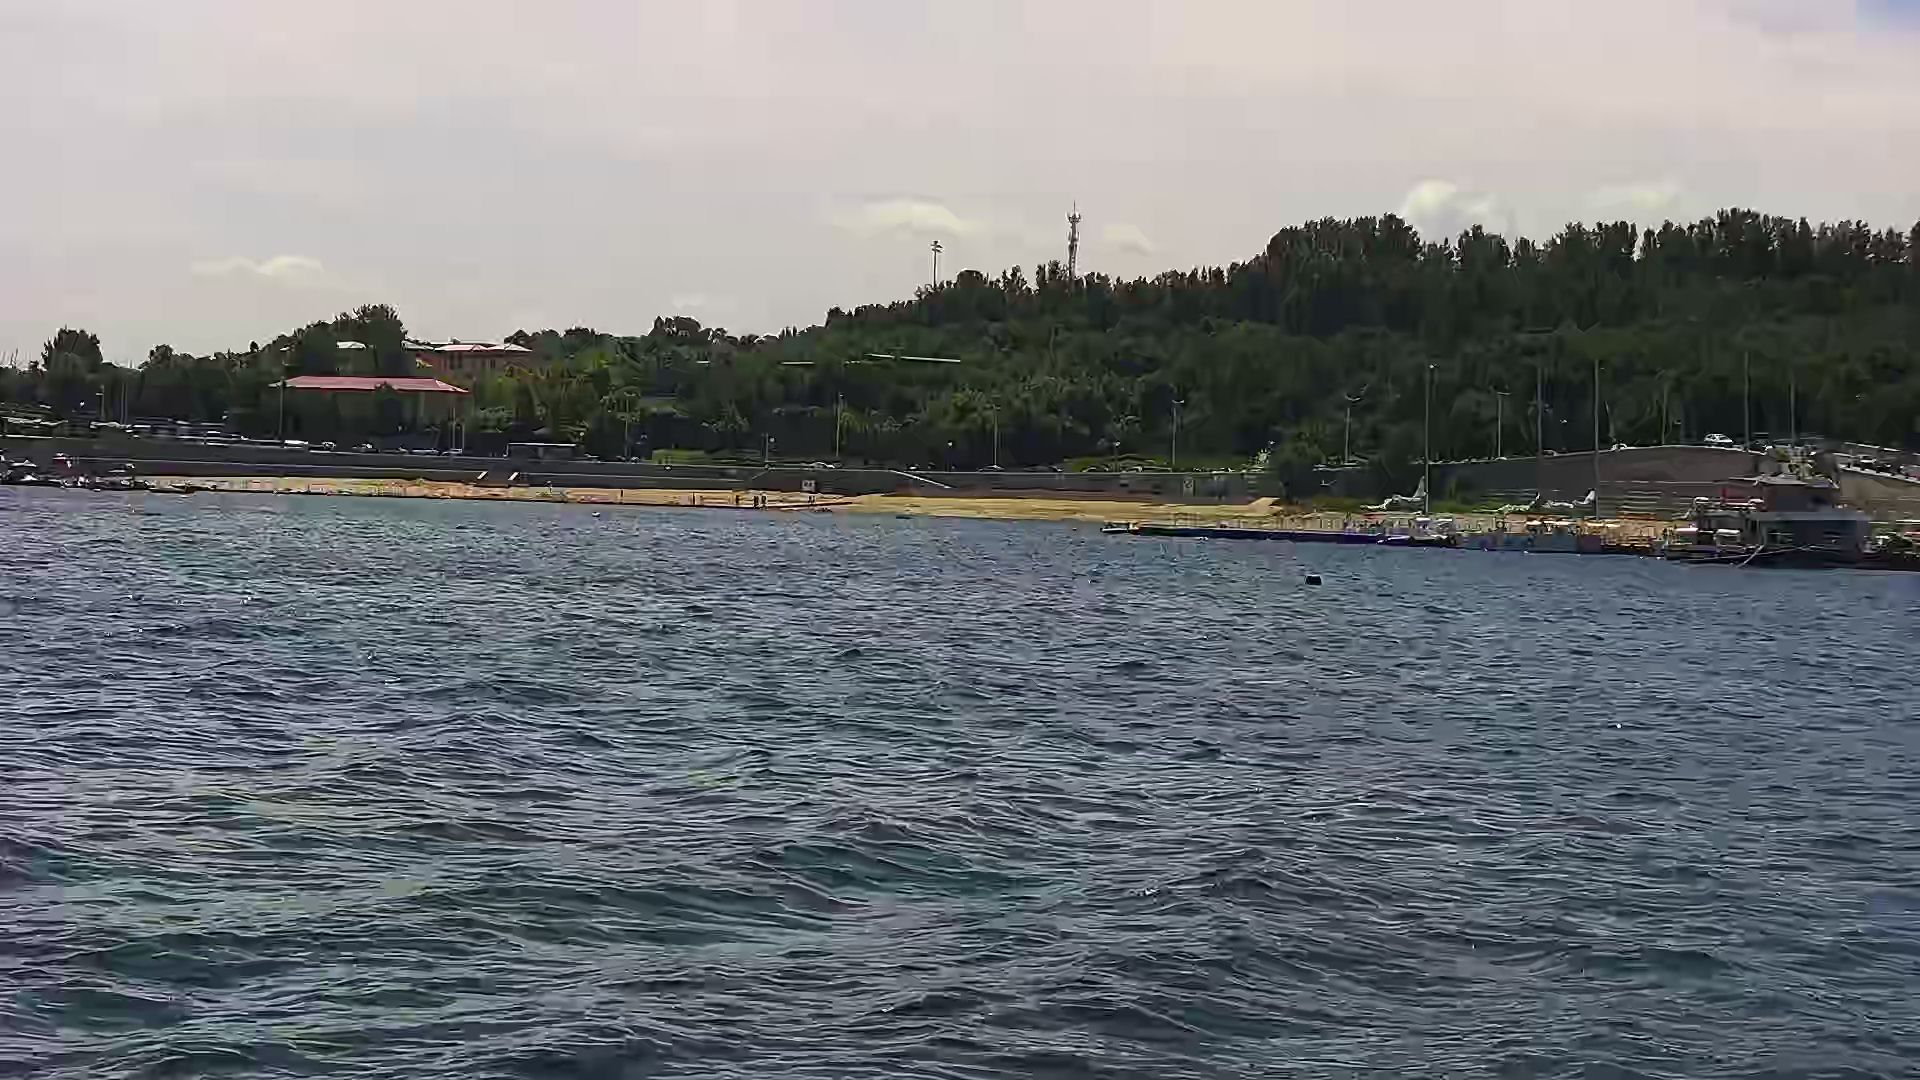boat: (1655, 498, 1892, 560), (1389, 527, 1449, 553)
harbor: (1093, 508, 1377, 543)
rubbish: (1299, 570, 1331, 587)
